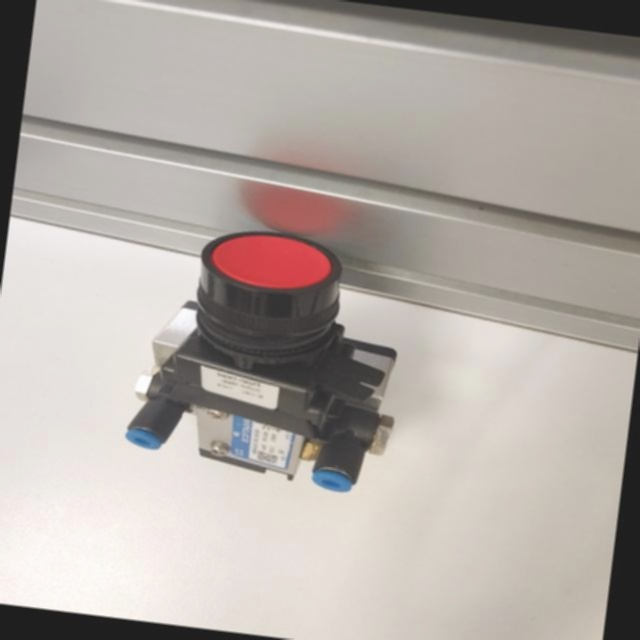push button: (121, 214, 417, 497)
